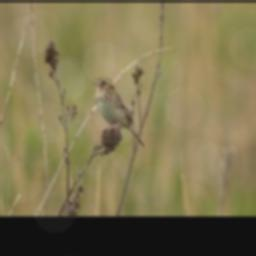Sparrow: (90, 74, 147, 146)
